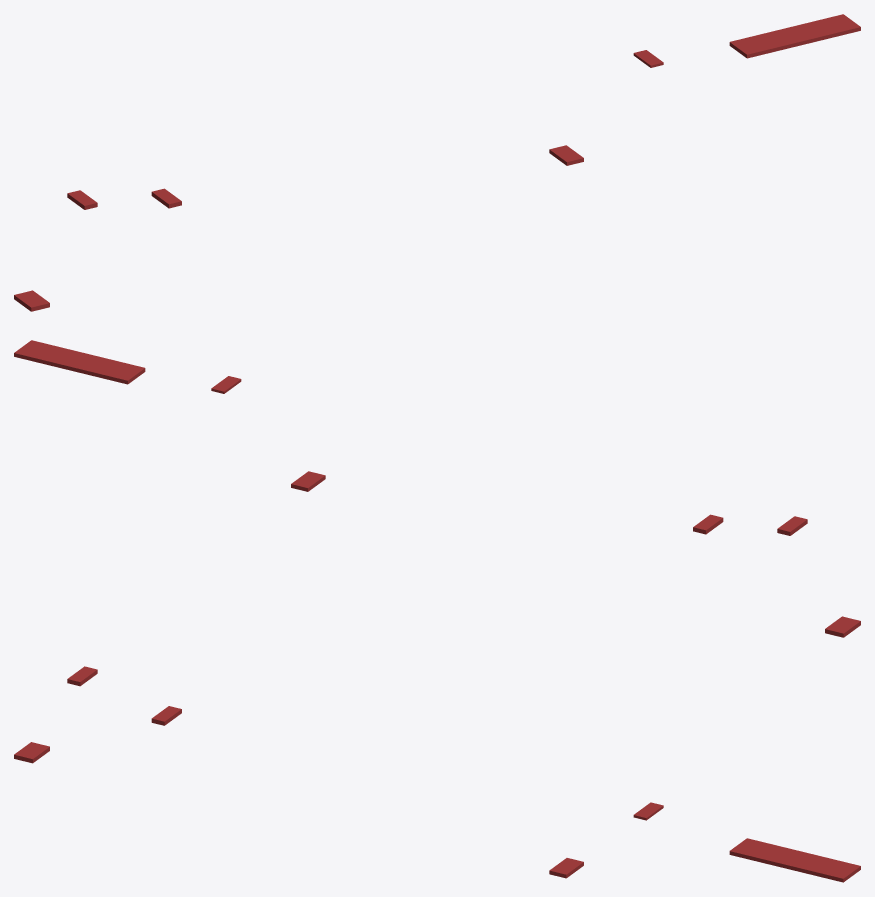
File: Hot.fbx
3 views of the same model, one above another, from view 1: azimuth 30°, elevation 25°; view 2: azimuth 150°, elevation 25°; view 3: azimuth 330°, elevation 25° (orthographic).
Parts seen in each view (by area): view 1: Hot; view 2: Hot; view 3: Hot.
Part boxes in pixels (box(x1,y1,x2,y2)): Hot: box(14, 14, 860, 311); Hot: box(14, 340, 860, 637); Hot: box(14, 666, 860, 882).
Bounding box in the file's own units: 185 × 20.24 × 6.78.
